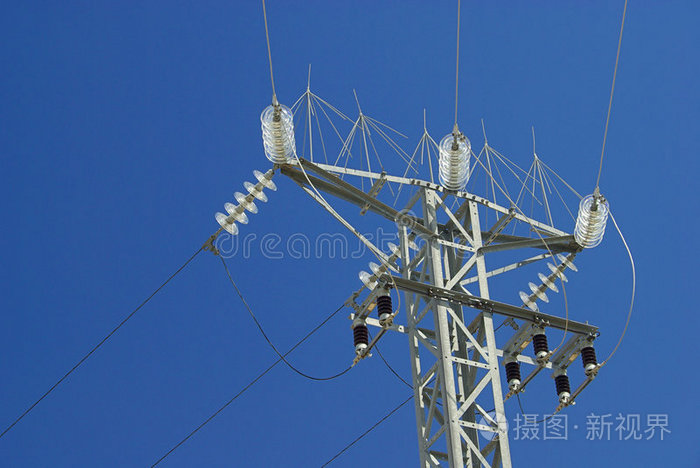insulator: (219, 171, 276, 234), (518, 255, 576, 309), (359, 236, 419, 288), (258, 104, 296, 163), (577, 193, 610, 247), (441, 132, 471, 189)
